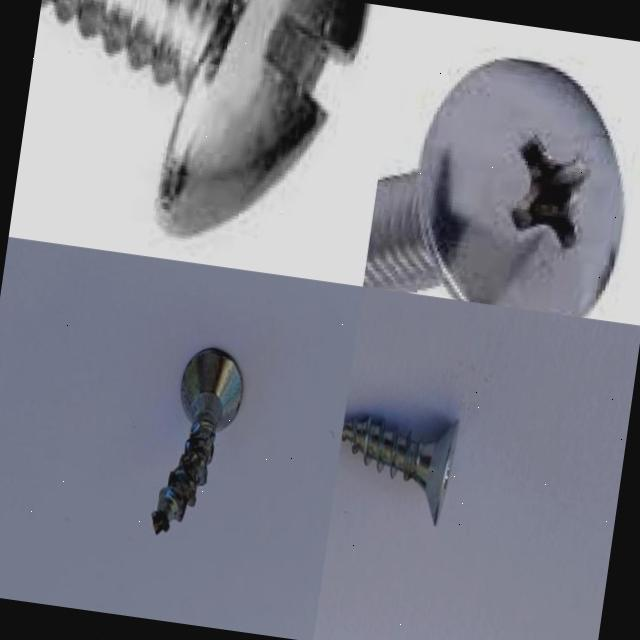Screw: (39, 0, 369, 240), (363, 54, 627, 318), (151, 350, 242, 536), (341, 418, 459, 527)
